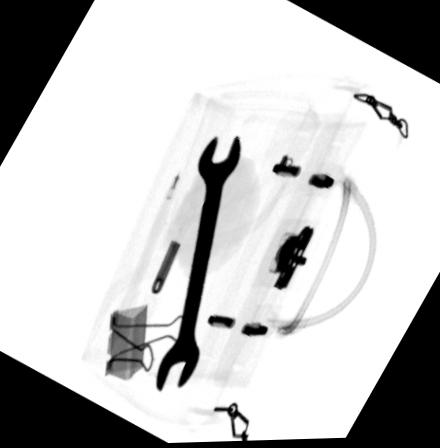Wrench: (153, 132, 242, 394)
